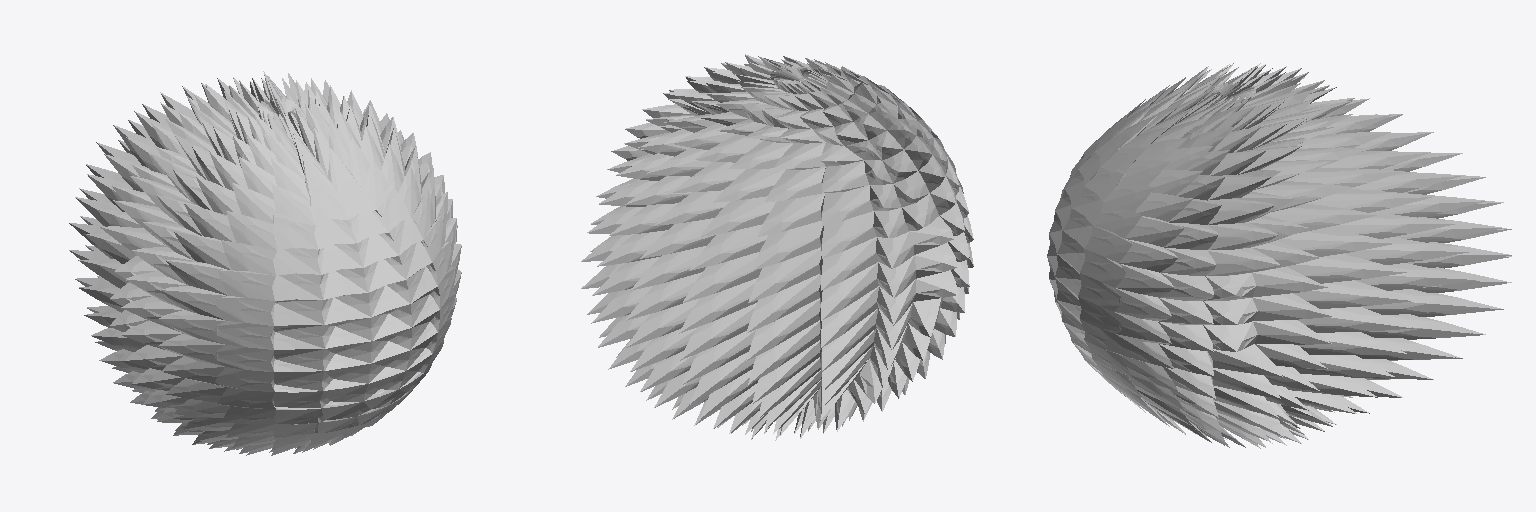
The model's file is justitia.obj.
3 renders of one model, left to right at view 1: azimuth 30°, elevation 25°; view 2: azimuth 150°, elevation 25°; view 3: azimuth 270°, elevation 25°, orthographic.
Visible parts, largest first — view 1: pSphere1; view 2: pSphere1; view 3: pSphere1.
Boxes of the visible parts, x1,y1,x2,y2 form: pSphere1: [69, 71, 461, 455]; pSphere1: [581, 54, 973, 440]; pSphere1: [1047, 63, 1511, 448].
Size of the model in its own units: 2.5 by 2.41 by 2.99.